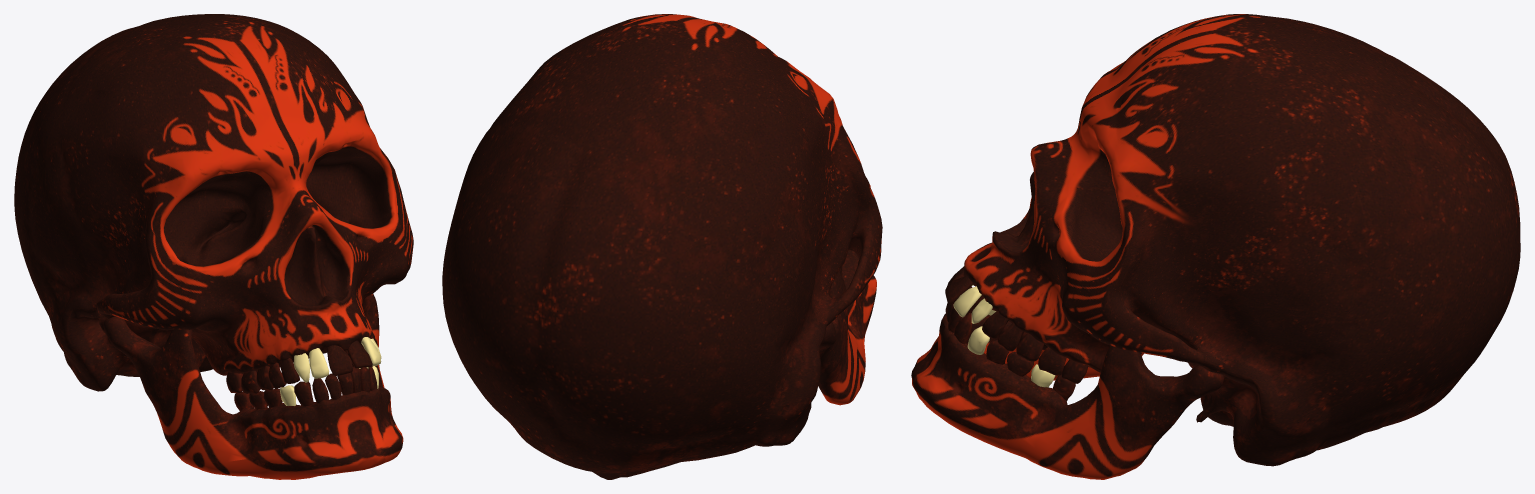
Rendered from skull.gltf.
3 views of the same model, side by side, from view 1: azimuth 30°, elevation 25°; view 2: azimuth 150°, elevation 25°; view 3: azimuth 270°, elevation 25° (orthographic). The views are drawn at different scales.
Visible parts, largest first — view 1: Group5732_001; view 2: Group5732_001; view 3: Group5732_001.
Part boxes in pixels (x1,y1,x2,y2): Group5732_001: (14,14,413,479); Group5732_001: (442,14,882,479); Group5732_001: (911,14,1520,479).
Bounding box in the file's own units: 1.22 × 1.46 × 2.
Materials: 2 (2 with a texture image).
